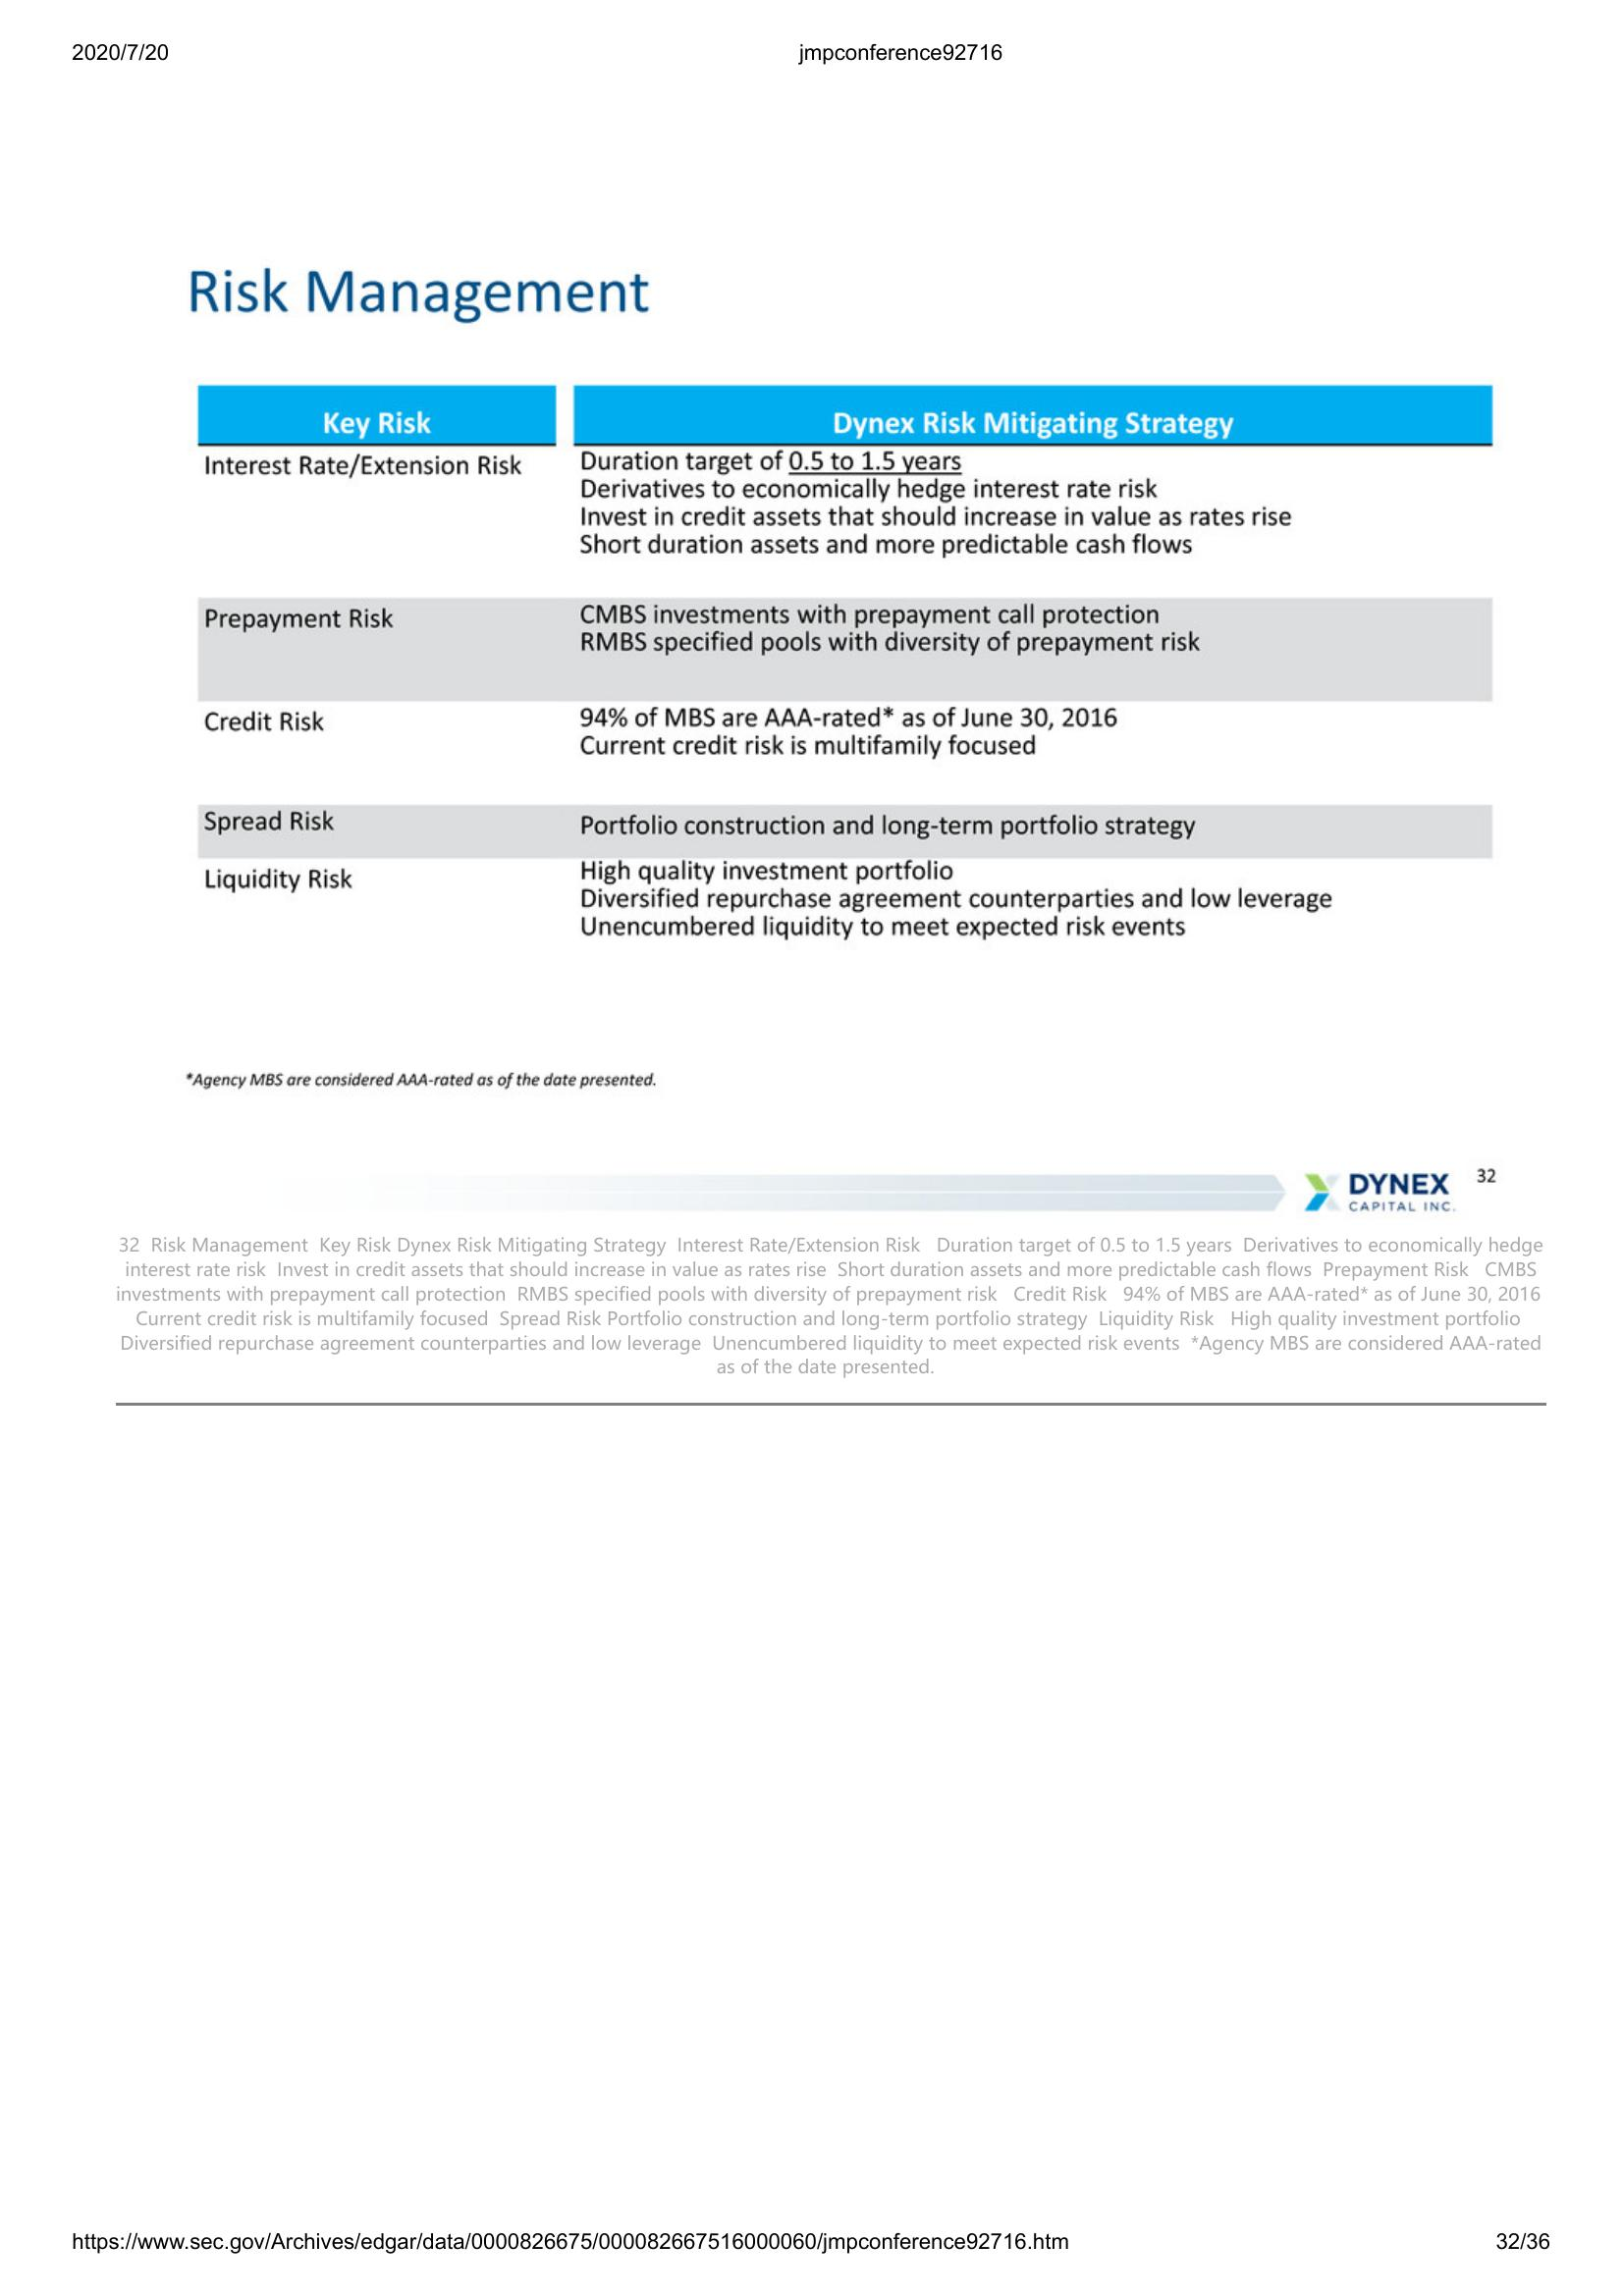table: (190, 374, 1502, 943)
